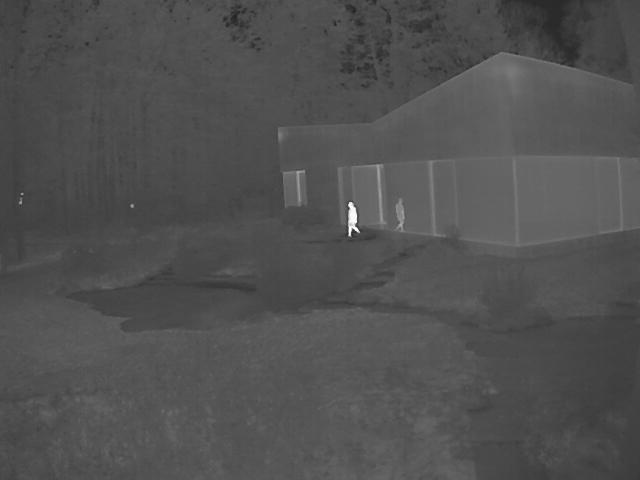person: (346, 200, 363, 238), (397, 196, 406, 230)
